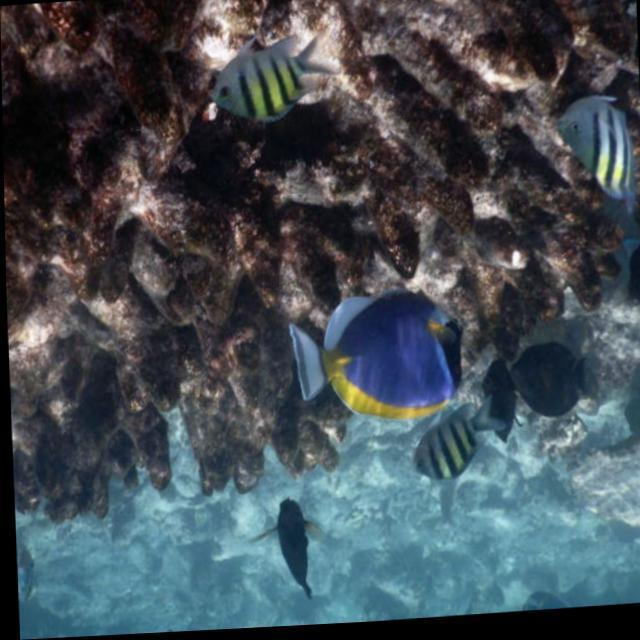Dead Coral: (0, 0, 617, 504)
